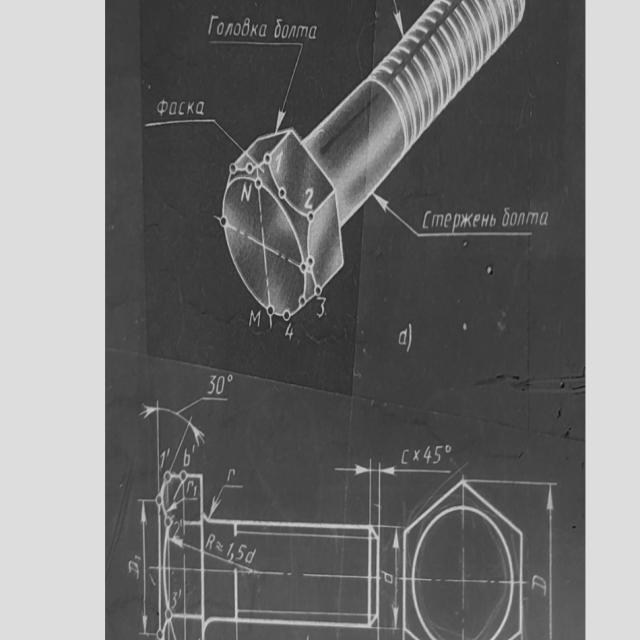marking_line: (372, 193, 562, 245), (206, 35, 307, 129), (526, 477, 565, 640), (116, 492, 159, 638), (134, 399, 205, 470), (142, 116, 249, 158), (170, 535, 258, 573), (375, 460, 454, 492), (379, 521, 400, 636), (207, 479, 246, 520), (327, 462, 372, 483), (167, 494, 201, 516), (390, 0, 405, 35)
numeric: (396, 321, 415, 355), (239, 181, 255, 205), (203, 373, 217, 398), (315, 296, 329, 321), (273, 152, 287, 175), (127, 560, 141, 582), (248, 307, 262, 329), (431, 444, 444, 467), (283, 322, 297, 343), (303, 188, 316, 210), (169, 587, 180, 612), (215, 372, 226, 395), (235, 543, 247, 563), (226, 540, 235, 558), (423, 446, 431, 465)
special_symbol: (444, 442, 454, 457), (226, 373, 234, 384)
